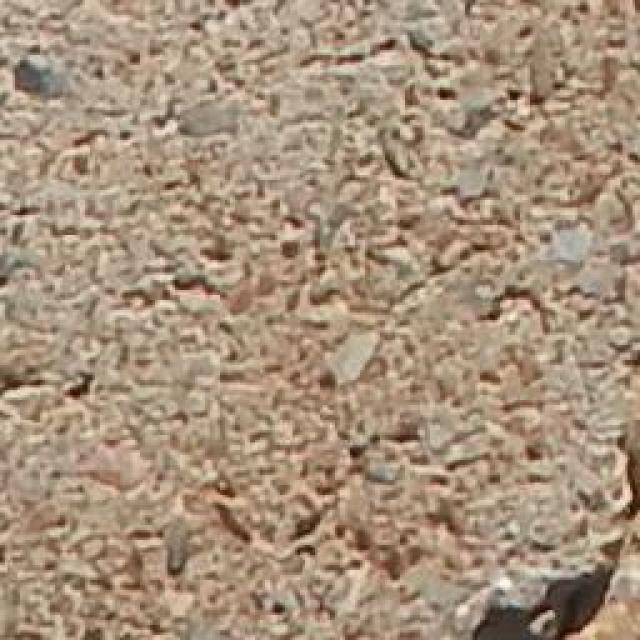concrete-crack: (464, 411, 639, 638)
